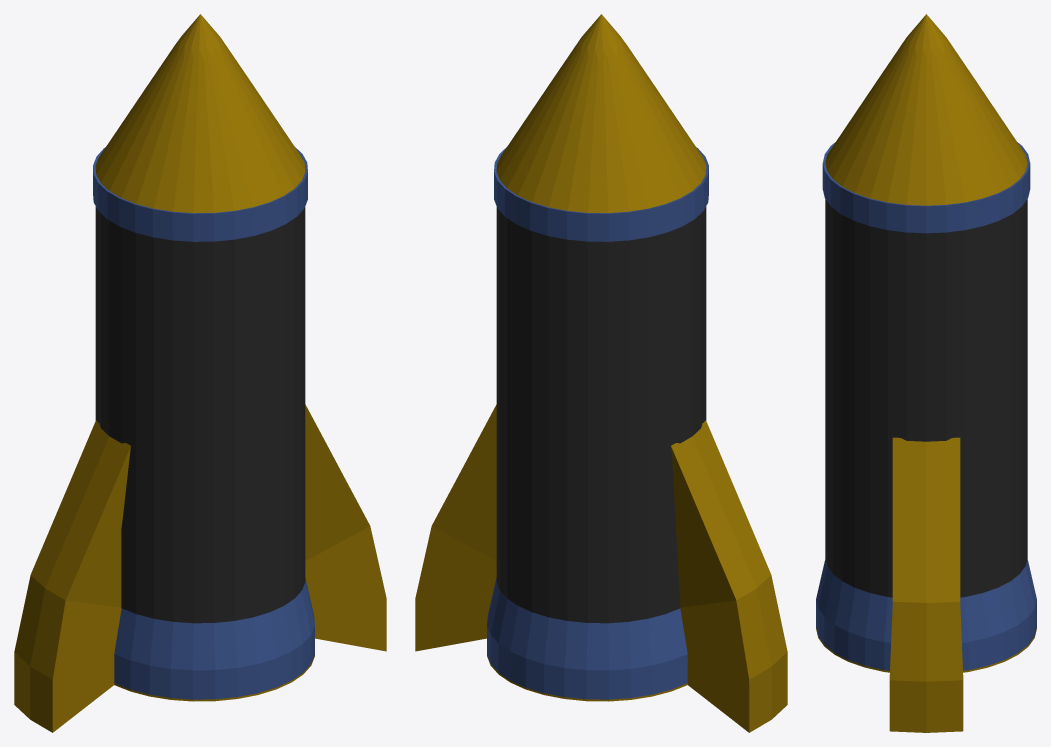
File: raketa.glb
The picture shows the model from 3 angles, left to right: view 1: azimuth 30°, elevation 25°; view 2: azimuth 150°, elevation 25°; view 3: azimuth 270°, elevation 25°; orthographic projection. The views are drawn at different scales.
Parts seen in each view (by area): view 1: Cylinder; view 2: Cylinder; view 3: Cylinder.
Boxes of the visible parts, bbox=[...] form: Cylinder: bbox=[14, 14, 386, 732]; Cylinder: bbox=[415, 14, 787, 732]; Cylinder: bbox=[816, 14, 1036, 732].
Bounding box in the file's own units: 3.64 × 6.79 × 2.13.
